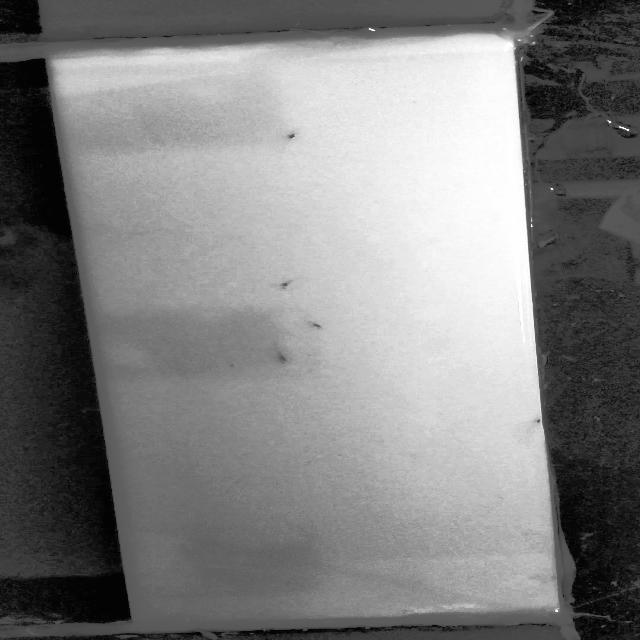shrimp: (273, 277, 302, 294), (278, 129, 300, 142), (276, 353, 300, 364), (304, 320, 328, 329), (528, 414, 548, 423)
